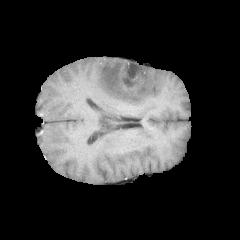glioma: (96, 60, 157, 105)
